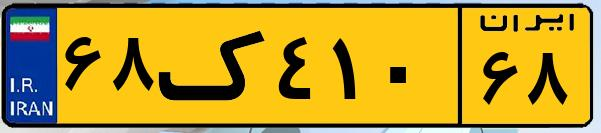0: (385, 28, 445, 110)
1: (330, 28, 385, 110)
4: (270, 28, 330, 110)
6: (57, 26, 110, 100), (475, 38, 525, 113)
8: (525, 38, 570, 115), (110, 28, 158, 98)
ک: (158, 12, 270, 120)
